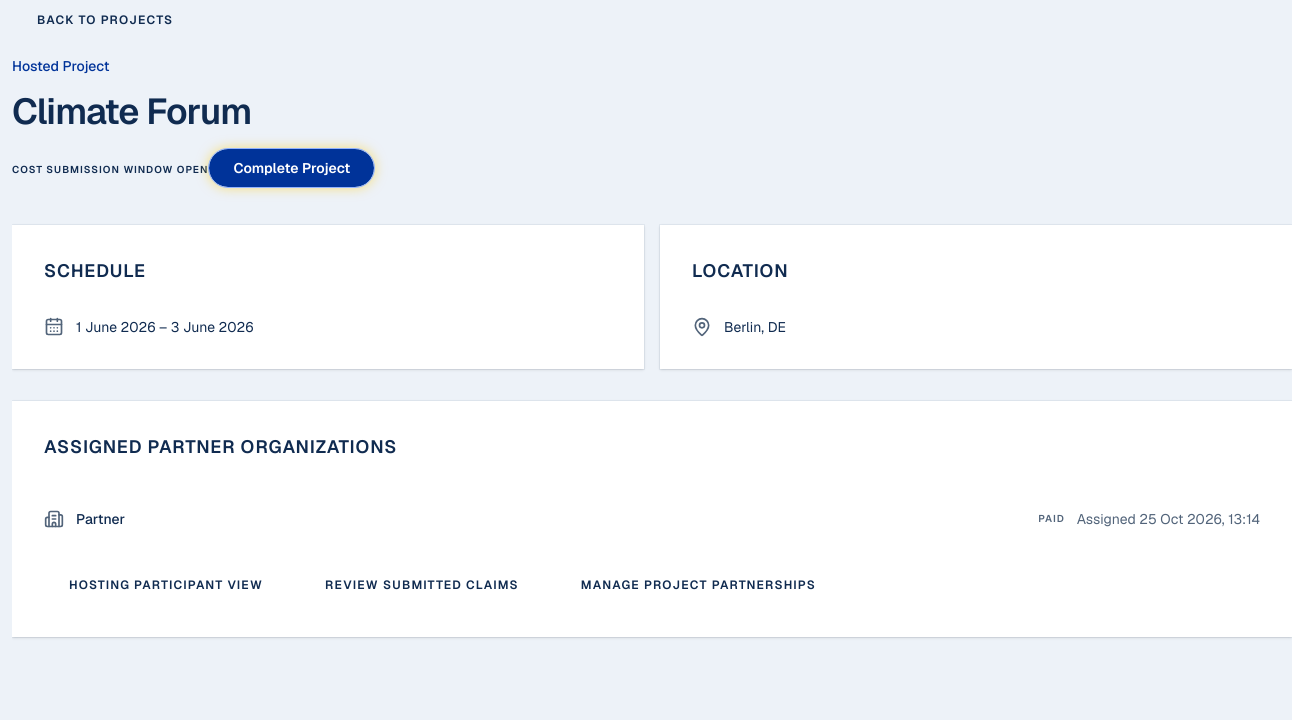
Scenario: Project workspace › completes an eligible Hosted Project and refreshes its workspace
Click the button "Complete Project" at (292, 168), box [208,148,375,188]
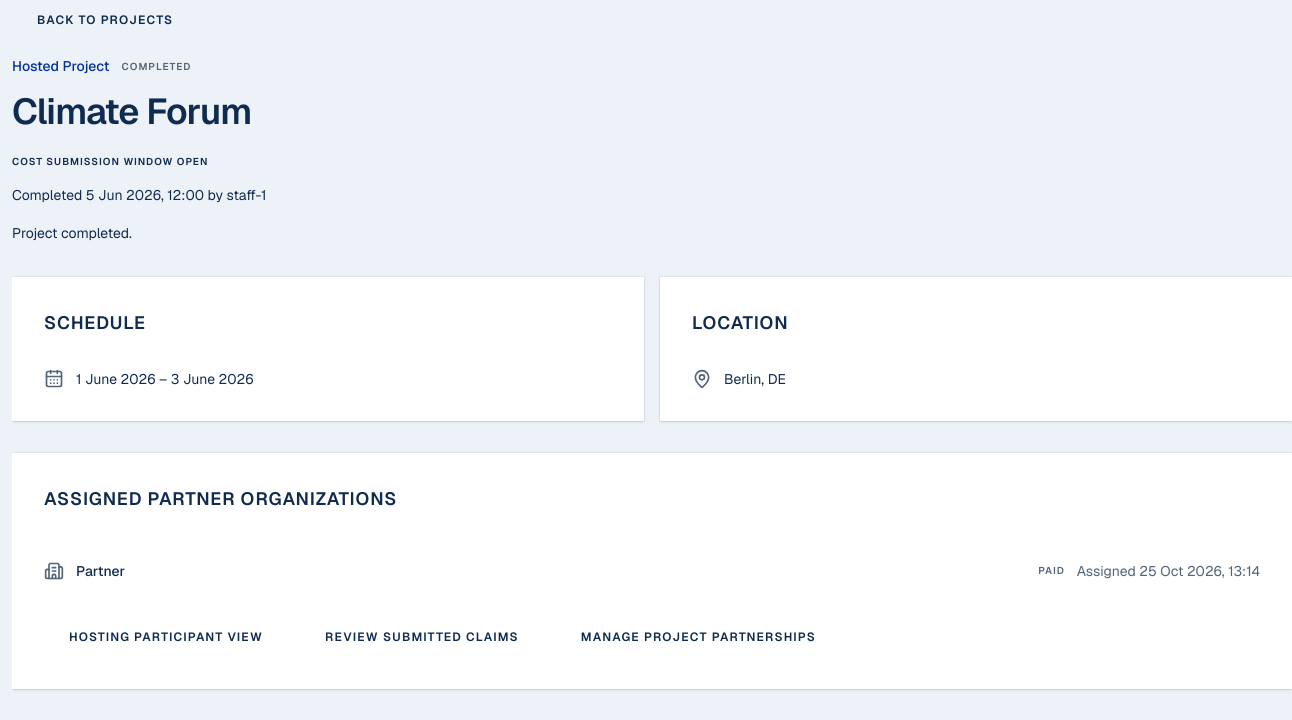
Expected: the text "Project completed." is shown, [12,224,132,242]
Expected: the text "Completed" is shown, [122,58,191,74]
Expected: the button "Complete Project" is gone
